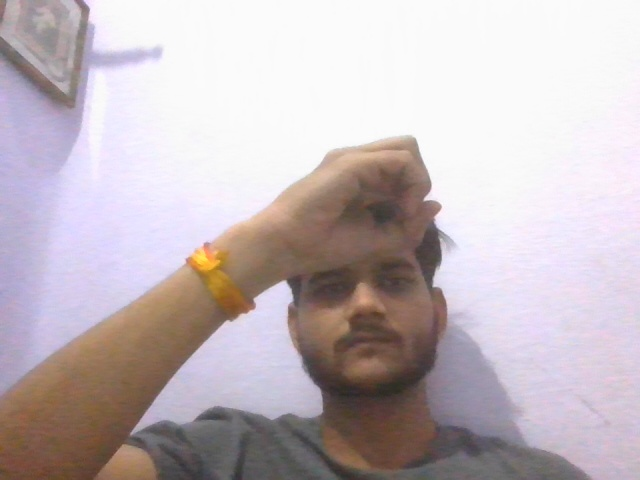no: (234, 105, 499, 267)
